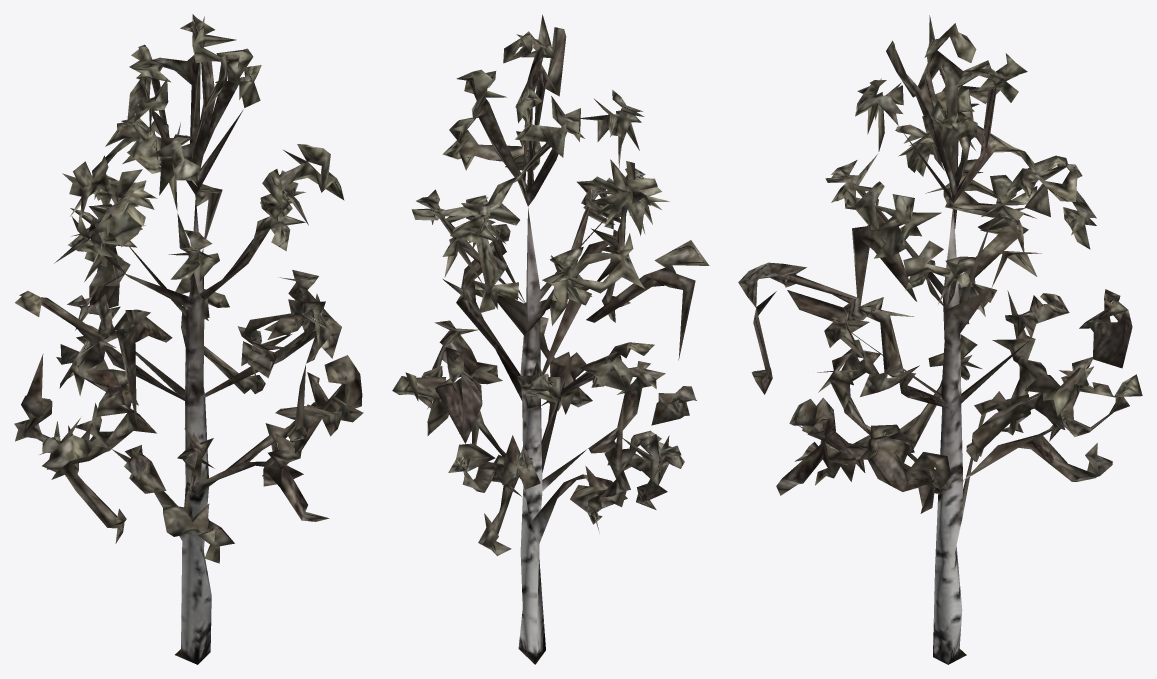
File: ul_birch.glb
The picture shows the model from 3 angles, left to right: view 1: azimuth 30°, elevation 25°; view 2: azimuth 150°, elevation 25°; view 3: azimuth 270°, elevation 25°; orthographic projection. The views are drawn at different scales.
Parts seen in each view (by area): view 1: tripo_node_20c5e909-c25f-4b54-b5ee-6107e0131da2; view 2: tripo_node_20c5e909-c25f-4b54-b5ee-6107e0131da2; view 3: tripo_node_20c5e909-c25f-4b54-b5ee-6107e0131da2.
Boxes of the visible parts, <box> form: tripo_node_20c5e909-c25f-4b54-b5ee-6107e0131da2: <box>14,14,363,664</box>; tripo_node_20c5e909-c25f-4b54-b5ee-6107e0131da2: <box>392,14,709,664</box>; tripo_node_20c5e909-c25f-4b54-b5ee-6107e0131da2: <box>738,15,1142,664</box>.
Size of the model in its own units: 0.4372 by 0.9566 by 0.5424.
Materials: 1 (1 with a texture image).
